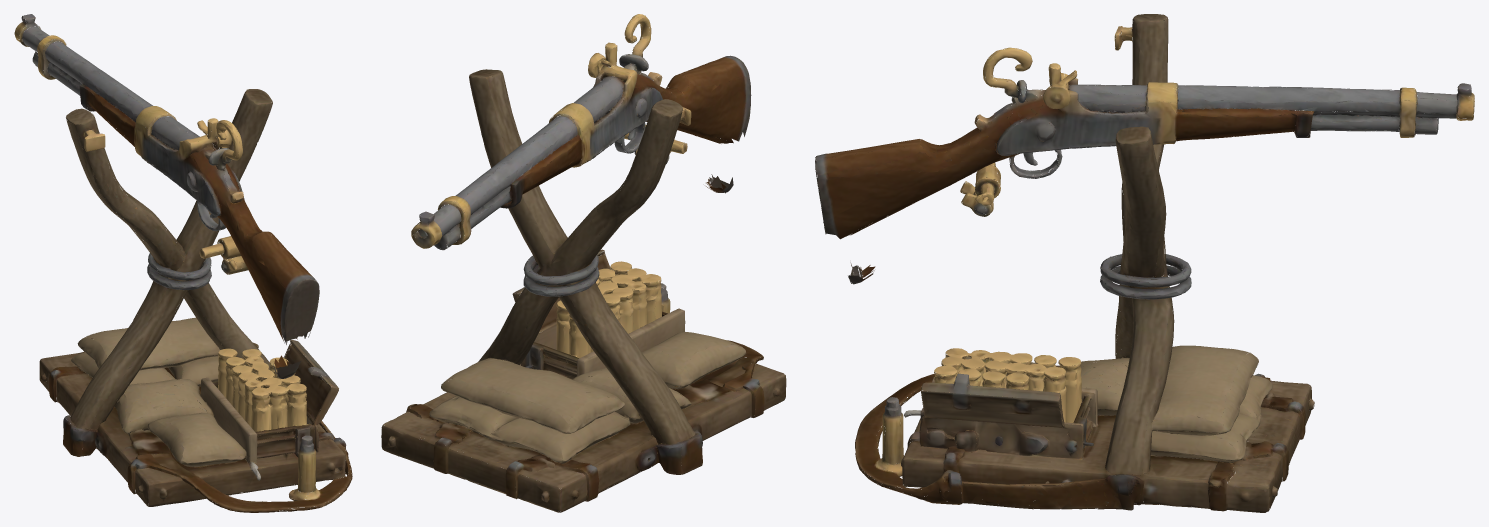
File: big_fifty.glb
3 renders of one model, left to right at view 1: azimuth 30°, elevation 25°; view 2: azimuth 150°, elevation 25°; view 3: azimuth 270°, elevation 25°, orthographic. The views are drawn at different scales.
Parts seen in each view (by area): view 1: base, gun, head; view 2: base, gun, head; view 3: base, gun, head.
Boxes of the visible parts, <box> form: base: <box>39,264,352,512</box>; gun: <box>14,14,319,344</box>; head: <box>66,89,272,287</box>; base: <box>381,174,786,512</box>; gun: <box>411,14,751,250</box>; head: <box>469,69,691,293</box>; base: <box>848,262,1314,512</box>; gun: <box>815,47,1474,239</box>; head: <box>1100,14,1191,295</box>.
Size of the model in its own units: 1.09 by 1.59 by 2.33.
Materials: 1 (1 with a texture image).
